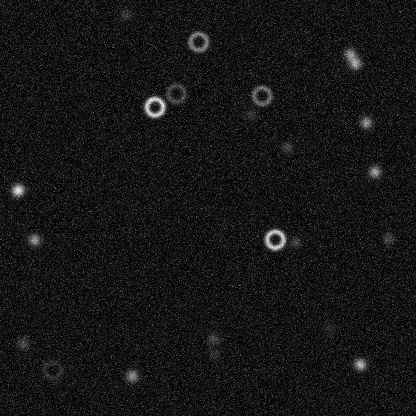Ring: (262, 227, 286, 251), (142, 94, 166, 118), (186, 29, 210, 53), (249, 83, 273, 107), (40, 357, 64, 381), (163, 81, 187, 105)
Spot: (358, 114, 374, 130), (26, 231, 42, 247), (15, 335, 31, 351), (346, 55, 362, 71), (286, 234, 302, 250), (204, 330, 220, 346), (206, 346, 222, 362), (342, 46, 358, 62), (380, 230, 396, 246), (352, 356, 368, 372), (366, 163, 382, 179), (117, 7, 133, 23), (279, 139, 295, 155), (9, 182, 25, 198), (242, 106, 258, 122), (321, 318, 337, 334), (124, 367, 140, 383)
